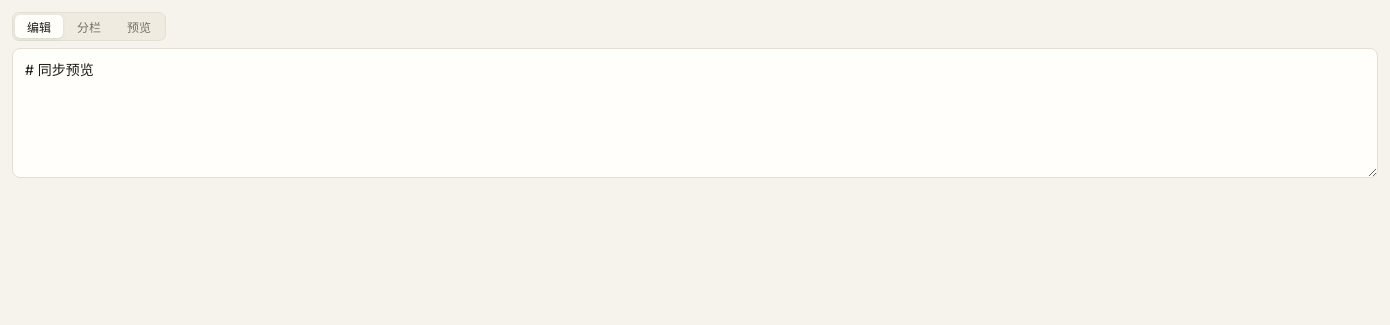
Test case: Markdown › offers a split mode that shows editor and preview side by side
The image size is (1390, 325).
Click the button "分栏" at x=89, y=26, box [65, 15, 113, 38]
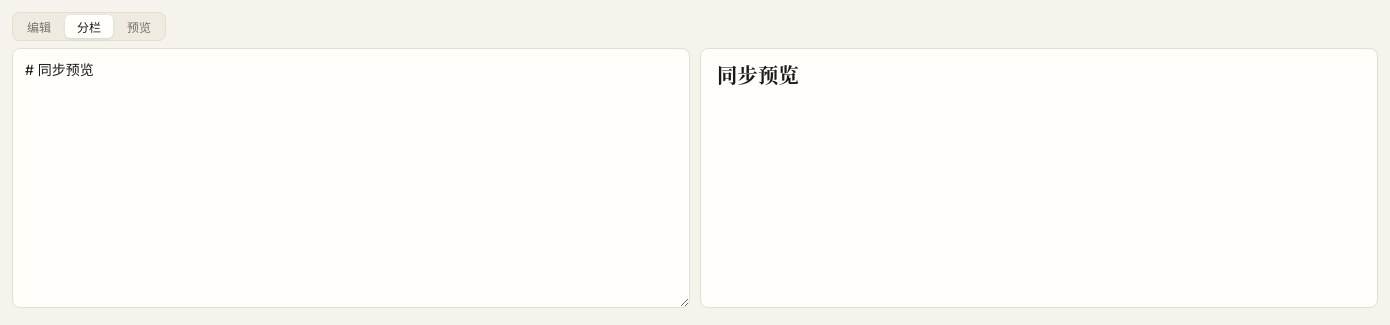
Expected: the text box is shown, [12, 48, 690, 308]
Expected: the heading "同步预览" is shown, [717, 62, 799, 90]
